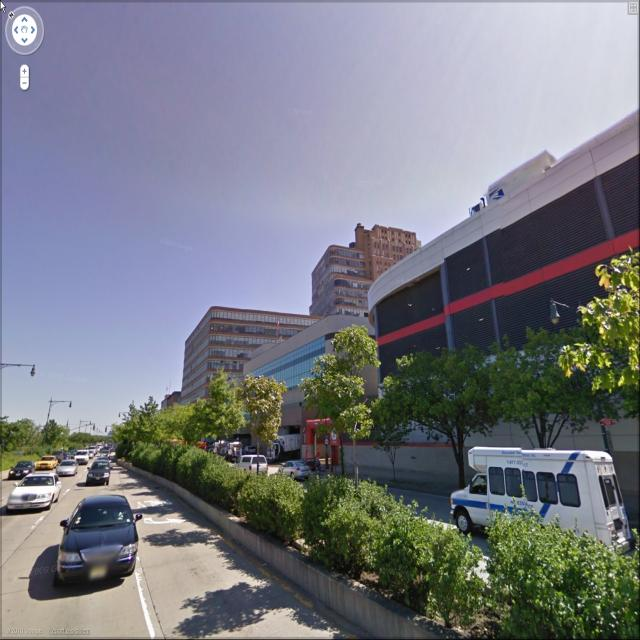b_1: (310, 198, 428, 324), (180, 299, 322, 387)
b_2: (356, 108, 640, 419)
